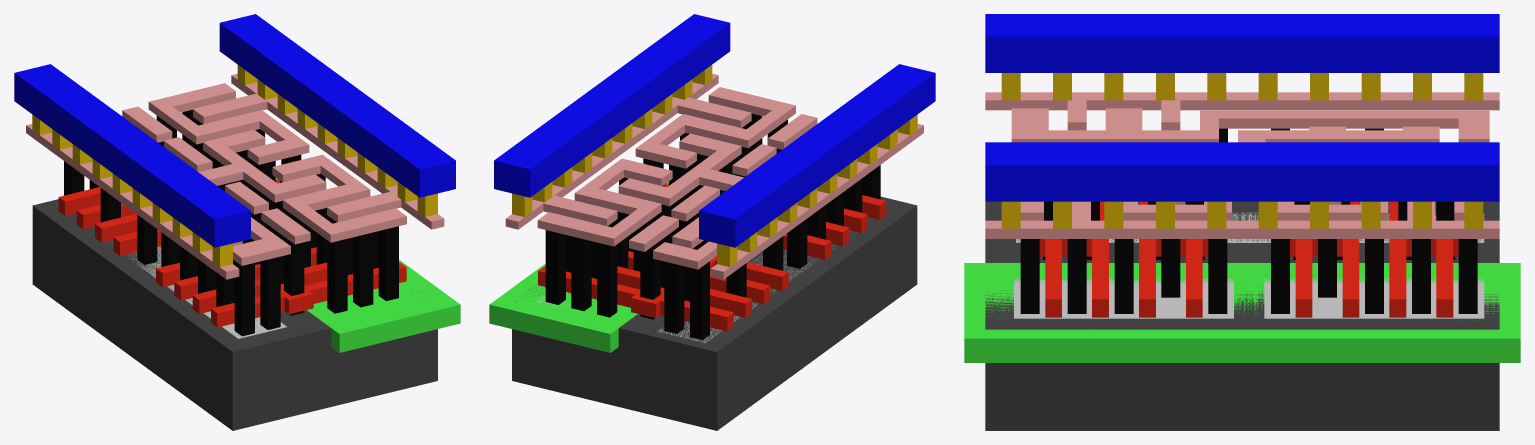
File: sky130_fd_sc_hd__o22ai_2.obj
3 views of the same model, side by side, from view 1: azimuth 30°, elevation 25°; view 2: azimuth 150°, elevation 25°; view 3: azimuth 270°, elevation 25° (orthographic). The views are drawn at different scales.
Parts seen in each view (by area): view 1: subs, metal1, li, licon, poly, nwell, mcon, diff; view 2: subs, metal1, li, licon, poly, nwell, mcon, diff; view 3: metal1, subs, li, nwell, licon, poly, mcon, tap, diff.
Part boxes in pixels (<box>): subs: <box>32,199,437,430</box>; metal1: <box>14,14,455,247</box>; li: <box>26,73,444,279</box>; licon: <box>64,109,398,336</box>; poly: <box>58,179,406,327</box>; nwell: <box>275,178,460,352</box>; mcon: <box>32,65,437,266</box>; diff: <box>112,243,286,338</box>; subs: <box>512,196,917,430</box>; metal1: <box>494,14,935,247</box>; li: <box>505,73,923,279</box>; licon: <box>545,113,880,339</box>; poly: <box>538,183,886,331</box>; nwell: <box>489,181,668,352</box>; mcon: <box>512,65,917,266</box>; diff: <box>658,230,850,342</box>; metal1: <box>985,14,1499,201</box>; subs: <box>985,201,1499,430</box>; li: <box>985,92,1499,238</box>; nwell: <box>964,263,1520,362</box>; licon: <box>1020,128,1477,313</box>; poly: <box>1039,201,1458,317</box>; mcon: <box>1001,73,1483,228</box>; tap: <box>1014,278,1484,318</box>; diff: <box>1016,212,1484,242</box>.
Size of the model in its own units: 3.2 by 2.74 by 4.98.
